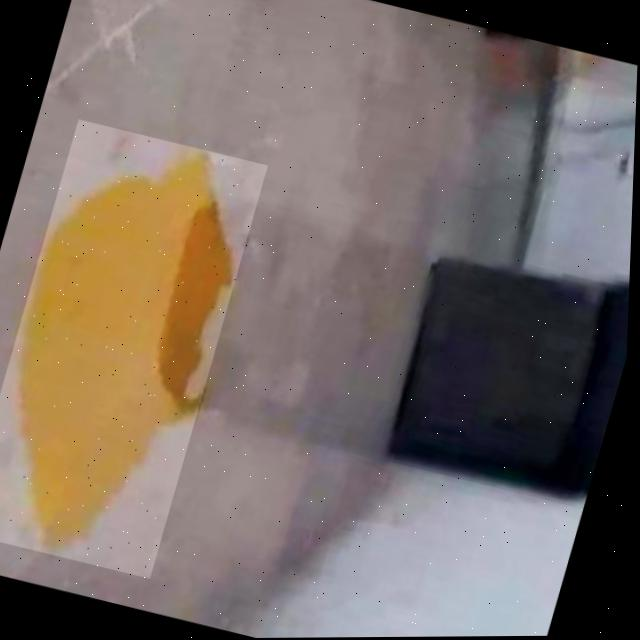spillage: (15, 149, 233, 553)
